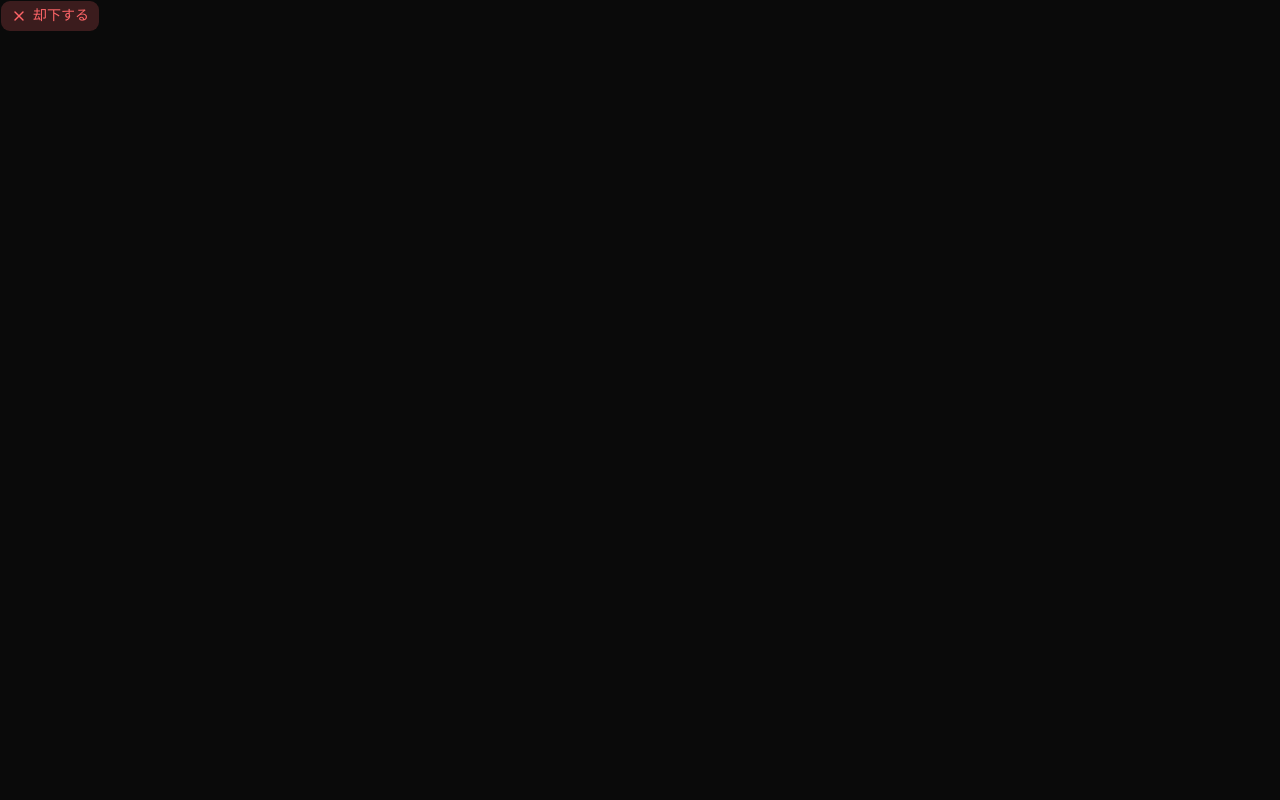
Test: RejectRequestDialog › 却下理由を入力すると却下ボタンが有効になる
Click the button "却下する": (50, 16) [0,0,100,32]
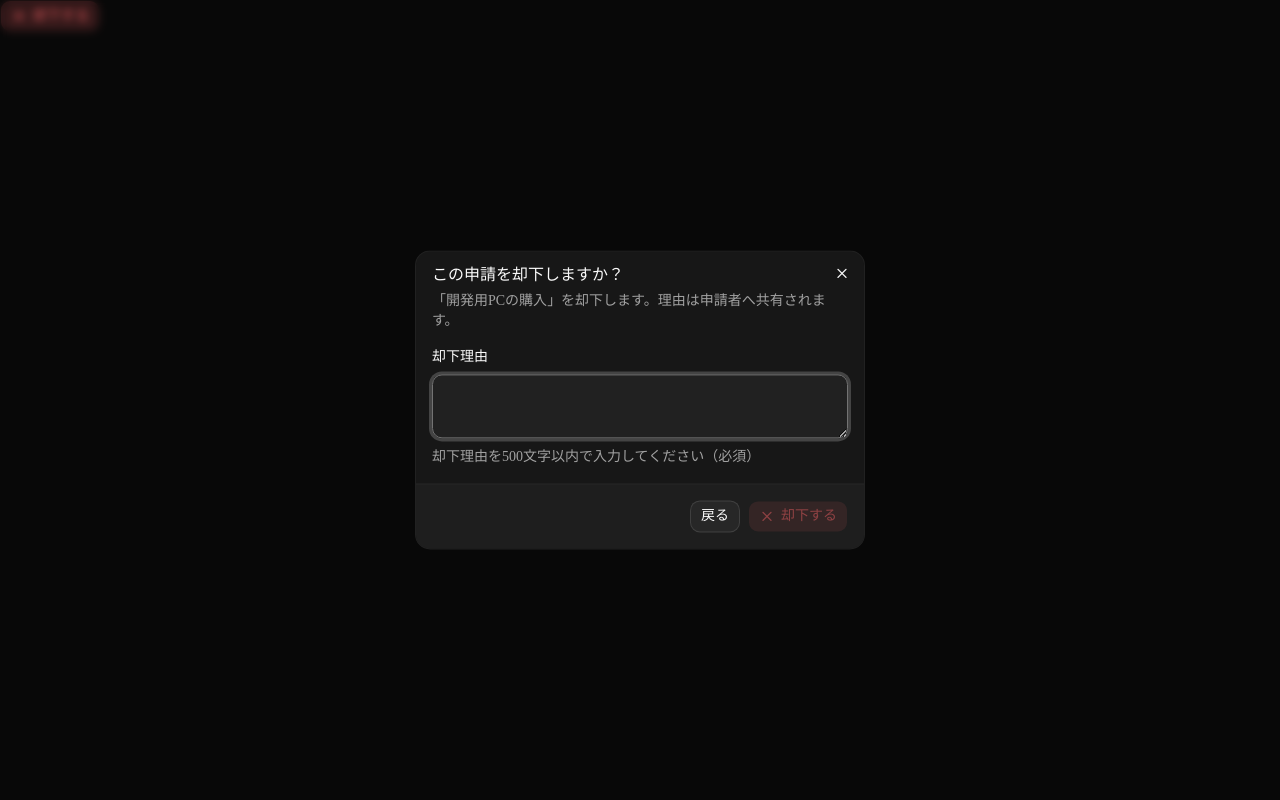
Check: the heading "この申請を却下しますか？" is shown, box [432,266,624,283]
Check: the button "却下する" is disabled, box [748,501,848,533]
In the text box labelled "却下理由": (640, 407) [432,375,848,439], type "予算上限を超えているため"
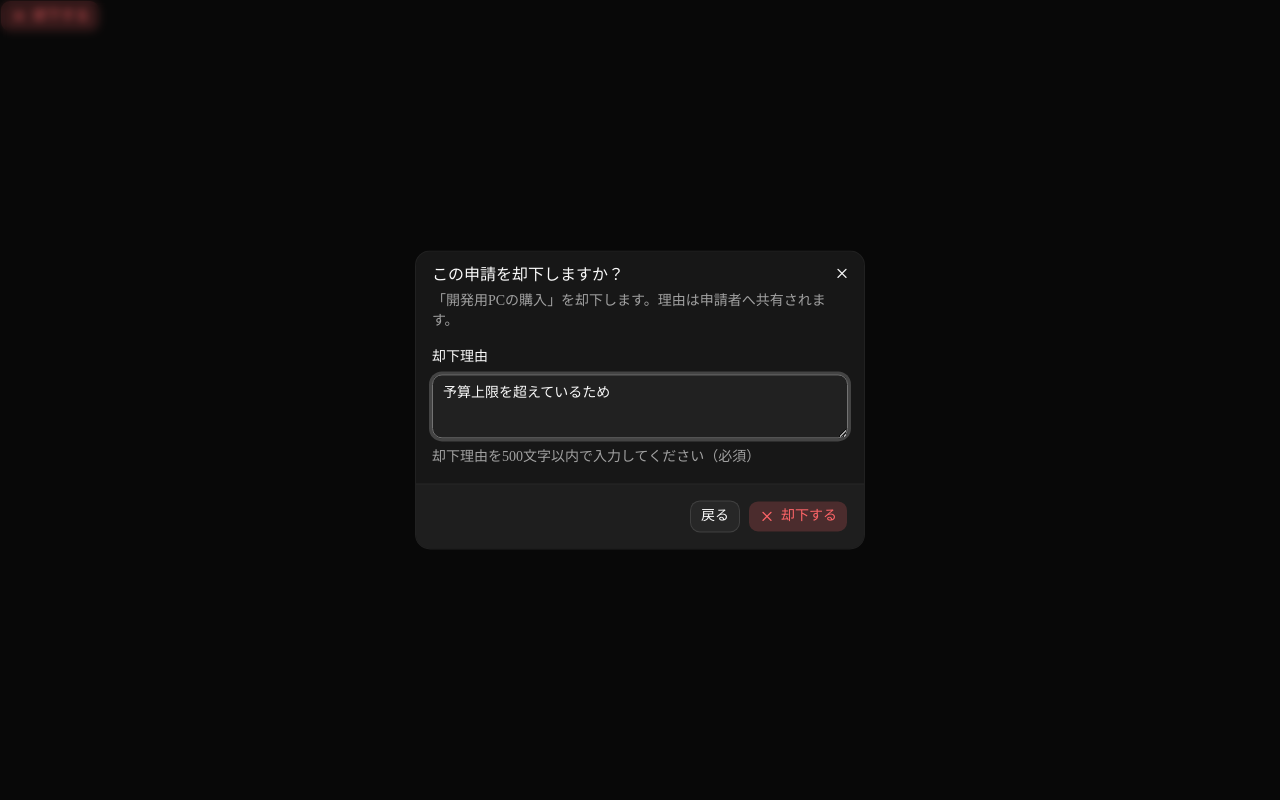
Check: the button "却下する" is enabled, box [748,501,848,533]
